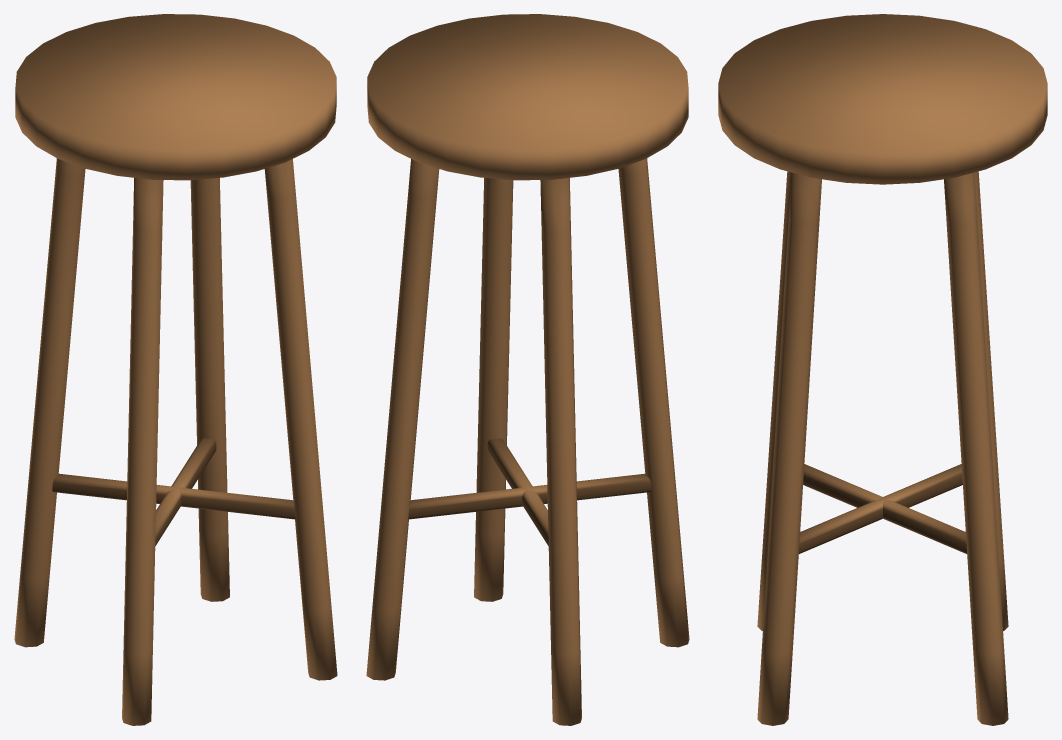
The model's file is tabouret.glb.
3 renders of one model, left to right at view 1: azimuth 30°, elevation 25°; view 2: azimuth 150°, elevation 25°; view 3: azimuth 270°, elevation 25°, orthographic. The views are drawn at different scales.
Parts seen in each view (by area): view 1: corps; view 2: corps; view 3: corps.
Boxes of the visible parts, x1,y1,x2,y2 form: corps: [14, 14, 337, 725]; corps: [366, 14, 689, 725]; corps: [718, 14, 1047, 725].
Size of the model in its own units: 0.38 by 0.75 by 0.38.
